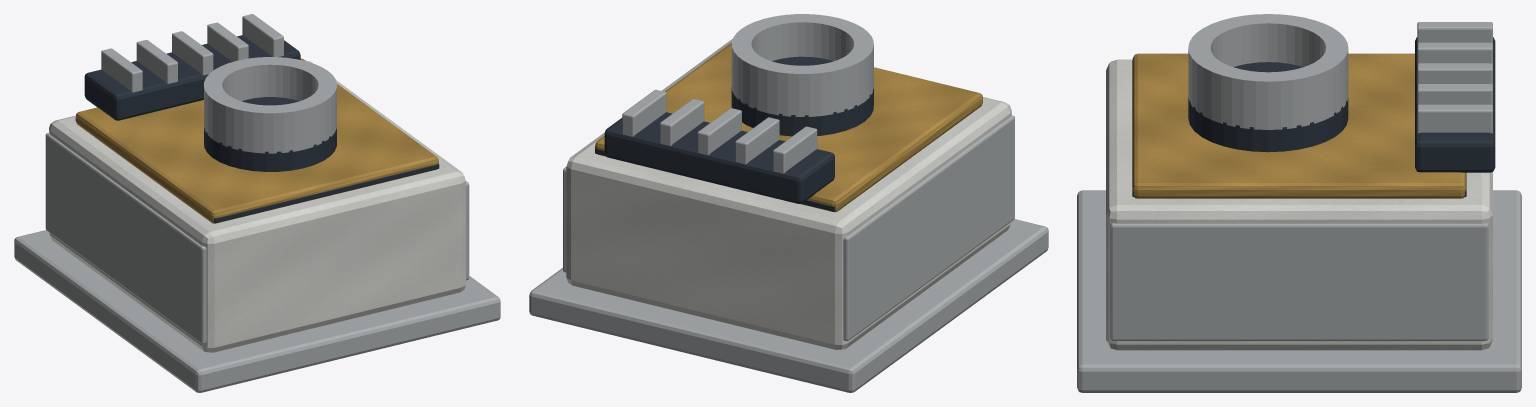
The model's file is telescope_near_ir_module.glb.
The picture shows the model from 3 angles, left to right: view 1: azimuth 30°, elevation 25°; view 2: azimuth 150°, elevation 25°; view 3: azimuth 270°, elevation 25°; orthographic projection. The views are drawn at different scales.
Parts seen in each view (by area): view 1: Infrared_ColdHousing, Mount_Base.003, Thermal_Blanket, Module_Rail.002, Cold_StopBaffle, Radiator_Base, Infrared_Optics, Module_Seam.002, Radiator_Fin.030, Radiator_Fin.031, Radiator_Fin.032, Radiator_Fin.034 (+1 smaller); view 2: Infrared_ColdHousing, Mount_Base.003, Module_Rail.002, Thermal_Blanket, Cold_StopBaffle, Radiator_Base, Infrared_Optics, Radiator_Fin.031, Radiator_Fin.032, Radiator_Fin.034, Radiator_Fin.030, Radiator_Fin.033; view 3: Module_Rail.003, Mount_Base.003, Thermal_Blanket, Infrared_ColdHousing, Cold_StopBaffle, Radiator_Base, Infrared_Optics, Radiator_Fin.034, Radiator_Fin.031, Radiator_Fin.030, Radiator_Fin.032, Radiator_Fin.033 (+1 smaller).
Part boxes in pixels (<box>): Infrared_ColdHousing: <box>49,60,465,352</box>; Mount_Base.003: <box>14,230,500,392</box>; Thermal_Blanket: <box>76,58,438,223</box>; Module_Rail.002: <box>45,133,206,344</box>; Cold_StopBaffle: <box>204,57,336,153</box>; Radiator_Base: <box>84,35,300,120</box>; Infrared_Optics: <box>204,127,336,171</box>; Module_Seam.002: <box>214,163,439,223</box>; Radiator_Fin.030: <box>101,48,142,92</box>; Radiator_Fin.031: <box>136,40,177,83</box>; Radiator_Fin.032: <box>172,31,213,75</box>; Radiator_Fin.034: <box>242,14,283,56</box>; Infrared_ColdHousing: <box>566,39,1011,349</box>; Mount_Base.003: <box>529,219,1048,392</box>; Module_Rail.002: <box>843,115,1014,340</box>; Thermal_Blanket: <box>595,43,982,212</box>; Cold_StopBaffle: <box>731,14,873,116</box>; Radiator_Base: <box>604,112,834,203</box>; Infrared_Optics: <box>731,87,873,136</box>; Radiator_Fin.031: <box>735,117,779,164</box>; Radiator_Fin.032: <box>697,108,741,154</box>; Radiator_Fin.034: <box>622,89,666,136</box>; Radiator_Fin.030: <box>773,126,817,173</box>; Radiator_Fin.033: <box>660,99,704,145</box>; Module_Rail.003: <box>1110,223,1488,340</box>; Mount_Base.003: <box>1077,190,1521,392</box>; Thermal_Blanket: <box>1132,53,1466,198</box>; Infrared_ColdHousing: <box>1106,59,1492,350</box>; Cold_StopBaffle: <box>1188,14,1348,129</box>; Radiator_Base: <box>1415,37,1495,172</box>; Infrared_Optics: <box>1188,97,1348,152</box>; Radiator_Fin.034: <box>1417,104,1492,133</box>; Radiator_Fin.031: <box>1417,42,1492,64</box>; Radiator_Fin.030: <box>1417,22,1492,43</box>; Radiator_Fin.032: <box>1417,63,1492,84</box>; Radiator_Fin.033: <box>1417,84,1492,105</box>.
Bounding box in the file's own units: 0.95 × 0.64 × 1.
4 materials, 2 textured.
